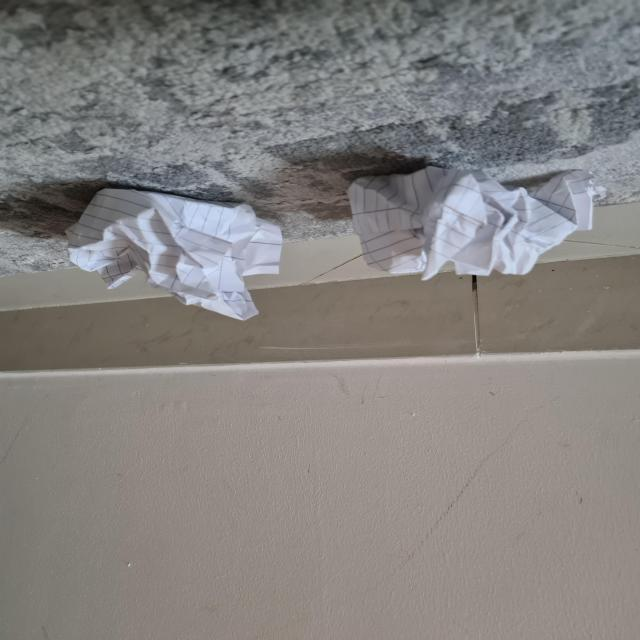kertas: (60, 182, 282, 324), (343, 170, 597, 290)
